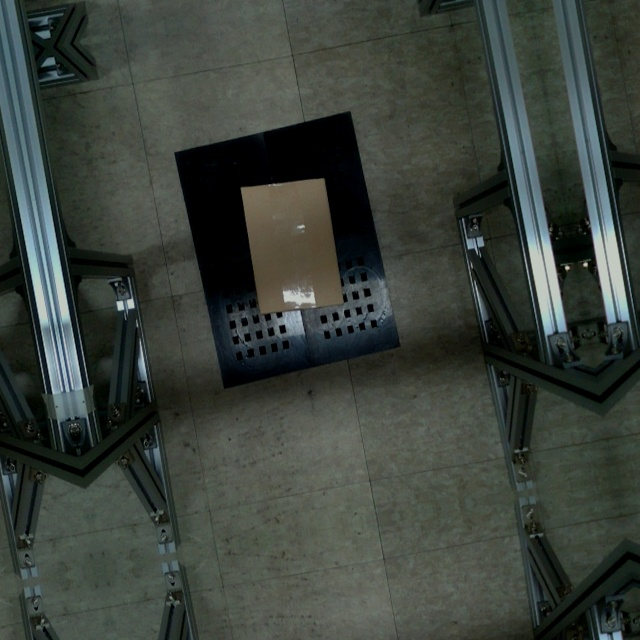box: (234, 168, 351, 322)
pallet: (174, 109, 400, 392)
